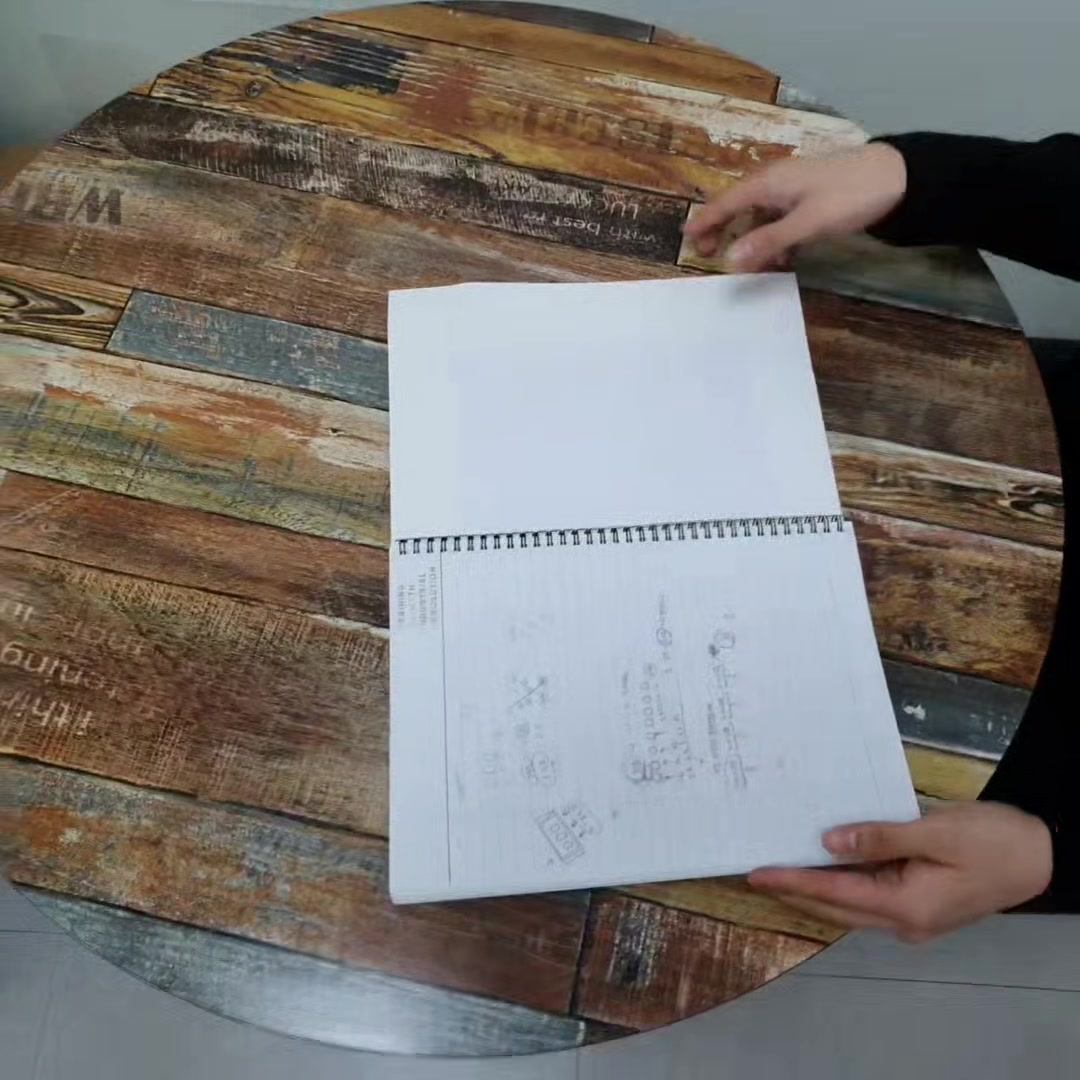book: (384, 267, 915, 900)
